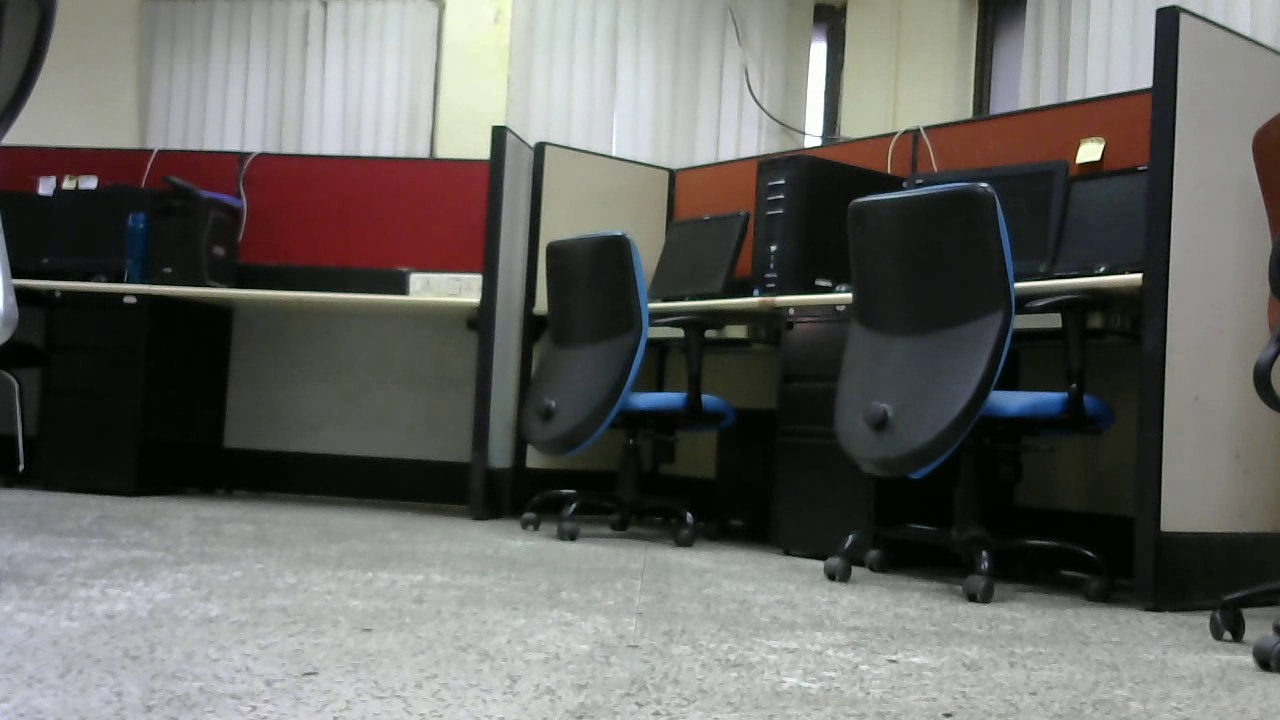chair: (796, 179, 1120, 604), (515, 227, 728, 557)
